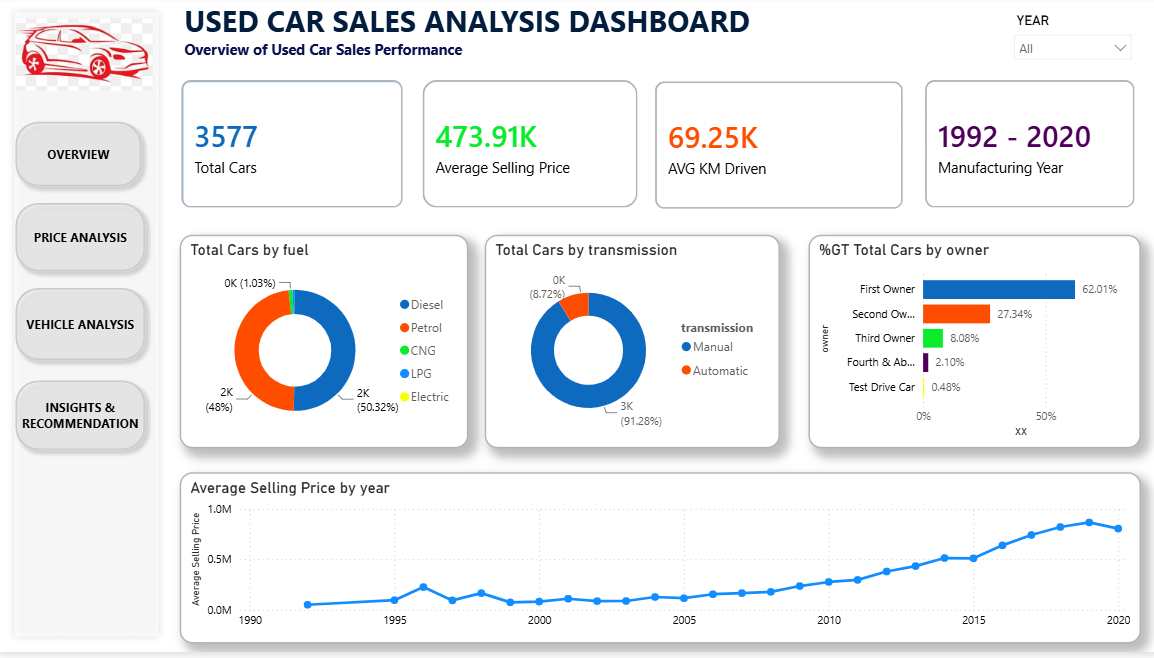

The page's visual inventory and layout, read from the dashboard file:
{"tool":"powerbi","page":{"name":"OVERVIEW","canvas":[1280,720],"ordinal":0},"visuals":[{"type":"cardVisual","fields":{"Data":["public car.Average Selling Price"]},"box":[451.5,75.5,270.3,174.3],"z":0},{"type":"cardVisual","fields":{"Data":["public car.AVG KM Driven"]},"box":[706.7,76.8,306,174.3],"z":1000},{"type":"cardVisual","fields":{"Data":["public car.Manufacturing Year"]},"box":[1003.1,75.5,264.8,174.3],"z":2000},{"type":"cardVisual","title":"T","fields":{"Data":["public car.Total Cars"]},"box":[186.6,75.5,277.2,174.3],"z":3000},{"type":"textbox","box":[201.7,0,1055.2,76.8],"z":4000},{"type":"donutChart","fields":{"Category":["public car.fuel"],"Y":["public car.Total Cars"]},"box":[201.7,262.1,317,234.6],"z":5000},{"type":"donutChart","fields":{"Category":["public car.transmission"],"Y":["public car.Total Cars"]},"box":[536.5,262.1,323.8,234.6],"z":6000},{"type":"barChart","fields":{"Category":["public car.owner"],"Y":["public car.Total Cars"]},"box":[891.9,262.1,365,234.6],"z":7000},{"type":"lineChart","fields":{"Category":["public car.year"],"Y":["public car.Average Selling Price"]},"box":[201.7,522.8,1055.2,188],"z":8000},{"type":"slicer","fields":{"Values":["public car.year"]},"box":[1107.4,13.7,149.6,63.1],"z":9000},{"type":"shape","box":[12.3,9.6,174.3,701.2],"z":10000},{"type":"actionButton","box":[12.3,129,156.4,89.2],"z":11000},{"type":"actionButton","box":[12.3,218.2,160.5,93.3],"z":12000},{"type":"actionButton","box":[12.3,311.5,160.5,97.4],"z":13000},{"type":"actionButton","box":[12.3,413,160.5,94.7],"z":14000},{"type":"image","box":[22,0,150.9,129],"z":15000}]}

Visuals, with their boxes in screenshot pixels (x1, y1, x2, y2), scaled from the page's 1280x720 canvas onto the 1154x658 screenshot:
cardVisual - public car.Average Selling Price: bbox(407, 69, 651, 228)
cardVisual - public car.AVG KM Driven: bbox(637, 70, 913, 229)
cardVisual - public car.Manufacturing Year: bbox(904, 69, 1143, 228)
"T" cardVisual: bbox(168, 69, 418, 228)
textbox: bbox(182, 0, 1133, 70)
donutChart - public car.fuel x public car.Total Cars: bbox(182, 240, 468, 454)
donutChart - public car.transmission x public car.Total Cars: bbox(484, 240, 776, 454)
barChart - public car.owner x public car.Total Cars: bbox(804, 240, 1133, 454)
lineChart - public car.year x public car.Average Selling Price: bbox(182, 478, 1133, 650)
slicer - public car.year: bbox(998, 13, 1133, 70)
shape: bbox(11, 9, 168, 650)
actionButton: bbox(11, 118, 152, 199)
actionButton: bbox(11, 199, 156, 285)
actionButton: bbox(11, 285, 156, 374)
actionButton: bbox(11, 377, 156, 464)
image: bbox(20, 0, 156, 118)
